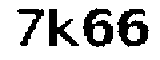6: (82, 7, 116, 53), (117, 7, 152, 51)
7: (11, 6, 44, 48)
k: (47, 4, 80, 54)
